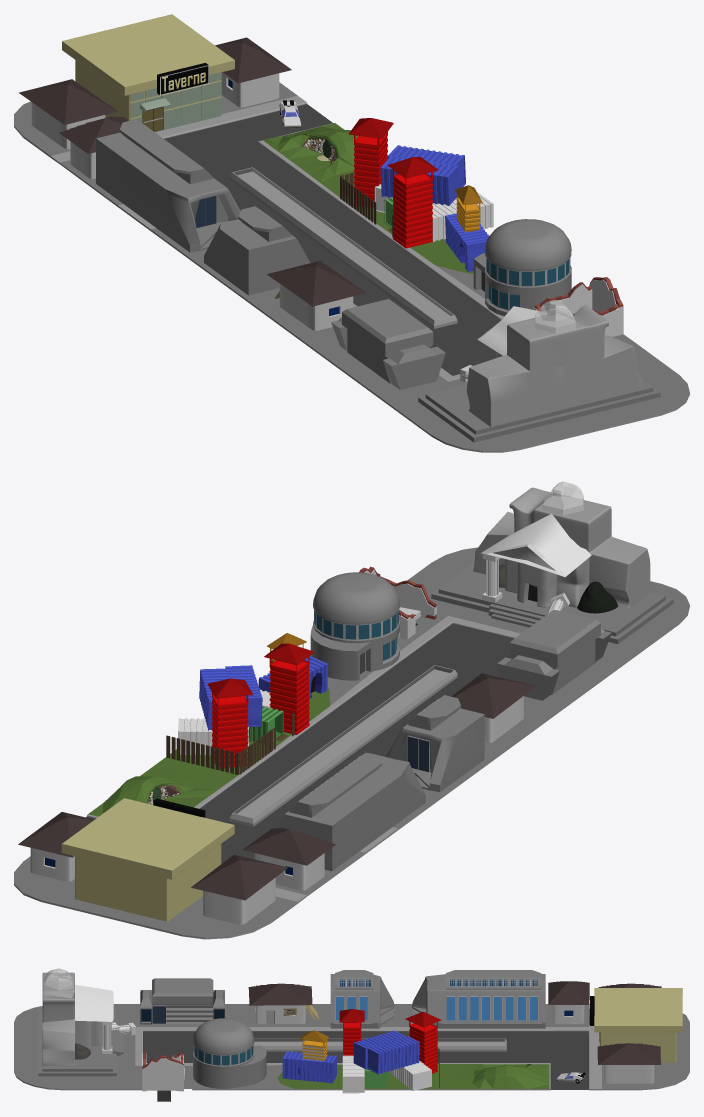
File: Street.fbx
3 views of the same model, one above another, from view 1: azimuth 30°, elevation 25°; view 2: azimuth 150°, elevation 25°; view 3: azimuth 270°, elevation 25° (orthographic). The views are drawn at different scales.
Visible parts, largest first — view 1: Street1, TechHQGebäude (×2), polySurface3, TavernenGebäude, TechnoAußenposten, TechnoArtefaktLager, BibliotheksRuine, AvaUnterSchlupfGebäude, AvaUnterSchlupfGebäude1, AvaUnterSchlupfGebäude2, pCube26, AvaUnterSchlupfGebäude3 (+12 smaller); view 2: Street1, TechHQGebäude (×2), TavernenGebäude, polySurface3, TechnoAußenposten, TechnoArtefaktLager, BibliotheksRuine, AvaUnterSchlupfGebäude1, pCube14, AvaUnterSchlupfGebäude3, AvaUnterSchlupfGebäude, AvaUnterSchlupfGebäude2 (+10 smaller); view 3: Street1, TechHQGebäude (×2), TavernenGebäude, TechnoAußenposten, polySurface3, TechnoArtefaktLager, AvaUnterSchlupfGebäude2, AvaUnterSchlupfGebäude, BibliotheksRuine, AvaUnterSchlupfGebäude3, pCube65, pCube22 (+23 smaller).
Boxes of the visible parts, box(x1,y1,x2,y2) form: Street1: box(14, 82, 689, 452); TechHQGebäude (×2): box(96, 119, 310, 295); polySurface3: box(466, 305, 643, 426); TavernenGebäude: box(62, 14, 234, 131); TechnoAußenposten: box(473, 219, 571, 316); TechnoArtefaktLager: box(331, 299, 445, 389); BibliotheksRuine: box(418, 378, 660, 442); AvaUnterSchlupfGebäude: box(267, 261, 365, 330); AvaUnterSchlupfGebäude1: box(19, 79, 117, 149); AvaUnterSchlupfGebäude2: box(215, 37, 291, 107); pCube26: box(393, 170, 432, 248); AvaUnterSchlupfGebäude3: box(59, 116, 128, 178); Street1: box(14, 547, 689, 939); TechHQGebäude (×2): box(276, 695, 484, 871); TavernenGebäude: box(61, 798, 234, 921); polySurface3: box(473, 487, 650, 608); TechnoAußenposten: box(310, 572, 399, 680); TechnoArtefaktLager: box(497, 609, 611, 700); BibliotheksRuine: box(431, 562, 673, 644); AvaUnterSchlupfGebäude1: box(191, 855, 288, 924); pCube14: box(481, 513, 591, 576); AvaUnterSchlupfGebäude3: box(243, 828, 335, 890); AvaUnterSchlupfGebäude: box(451, 673, 535, 742); AvaUnterSchlupfGebäude2: box(18, 812, 94, 881); Street1: box(14, 1004, 689, 1101); TechHQGebäude (×2): box(330, 970, 545, 1028); TavernenGebäude: box(594, 988, 682, 1062); TechnoAußenposten: box(193, 1018, 266, 1088); polySurface3: box(42, 972, 102, 1066); TechnoArtefaktLager: box(140, 978, 224, 1024); AvaUnterSchlupfGebäude2: box(597, 1043, 660, 1083); AvaUnterSchlupfGebäude: box(248, 983, 312, 1024); BibliotheksRuine: box(38, 1008, 123, 1076); AvaUnterSchlupfGebäude3: box(548, 981, 589, 1023); pCube65: box(367, 1036, 419, 1074); pCube22: box(282, 1051, 336, 1083).
Bounding box in the file's own units: 98.29 × 45.59 × 314.
